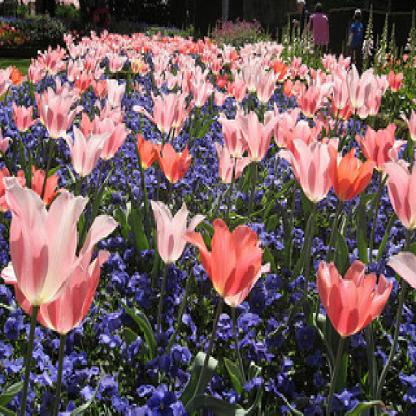TULIP: (6, 29, 409, 396)
